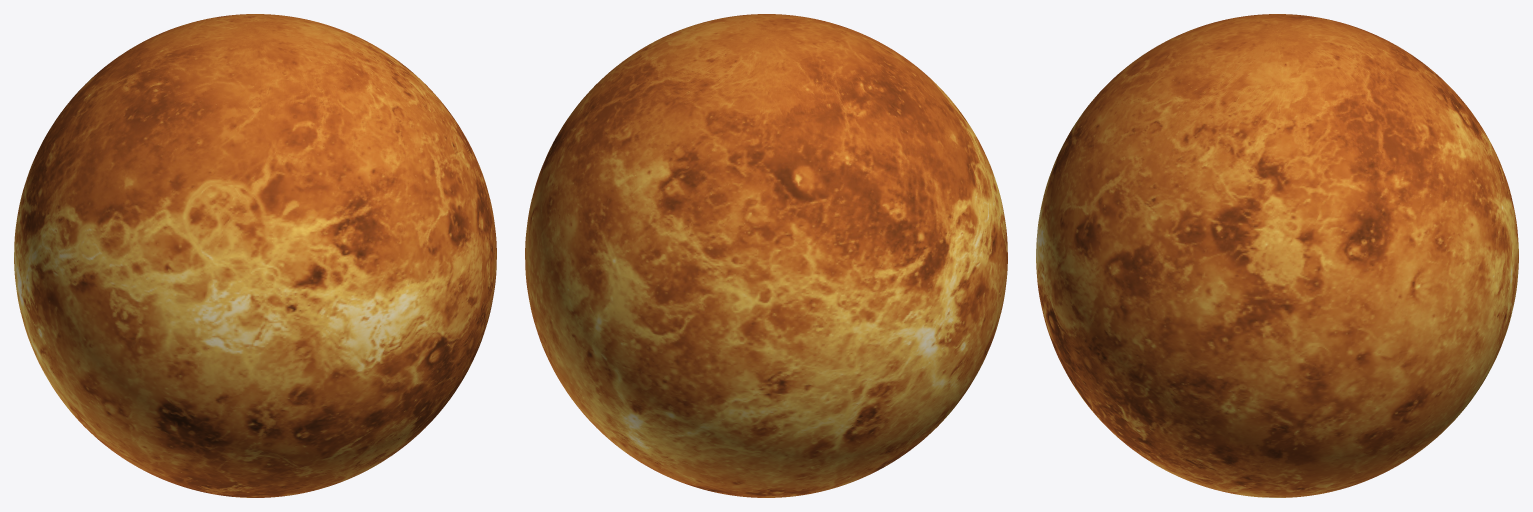
The model's file is venus.glb.
3 renders of one model, left to right at view 1: azimuth 30°, elevation 25°; view 2: azimuth 150°, elevation 25°; view 3: azimuth 270°, elevation 25°, orthographic.
Visible parts, largest first — view 1: Venus_Sphere.010; view 2: Venus_Sphere.010; view 3: Venus_Sphere.010.
Part boxes in pixels (left/top/right/bottom): Venus_Sphere.010: left=14, top=14, right=496, bottom=497; Venus_Sphere.010: left=525, top=14, right=1007, bottom=497; Venus_Sphere.010: left=1036, top=14, right=1518, bottom=497.
Bounding box in the file's own units: 1.42 × 1.42 × 1.42.
Materials: 1 (1 with a texture image).
